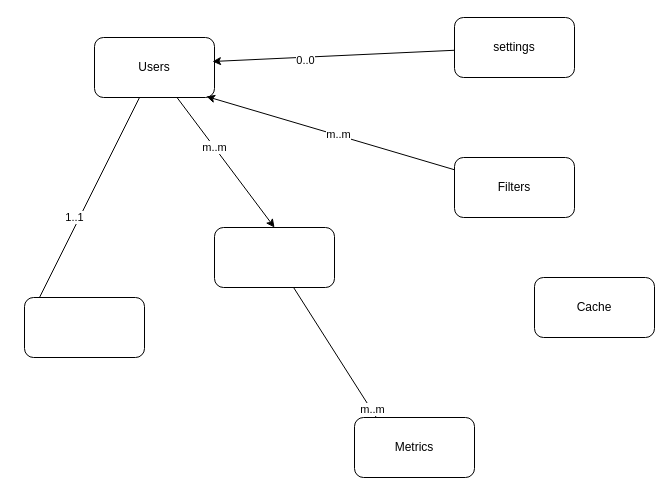
The diagram is 672 pixels wide and 503 high, and some of its shapes have lost their labels. The centre of each missing label's shape, as x and y in pixels:
Metric_labels: (274,257)
Tokens: (84,327)
